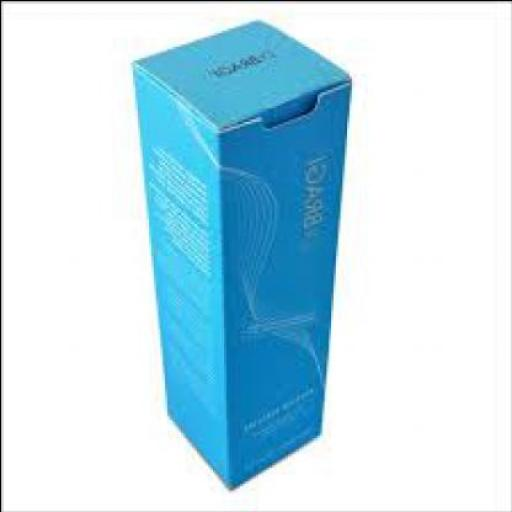cardboard: (134, 18, 356, 487)
